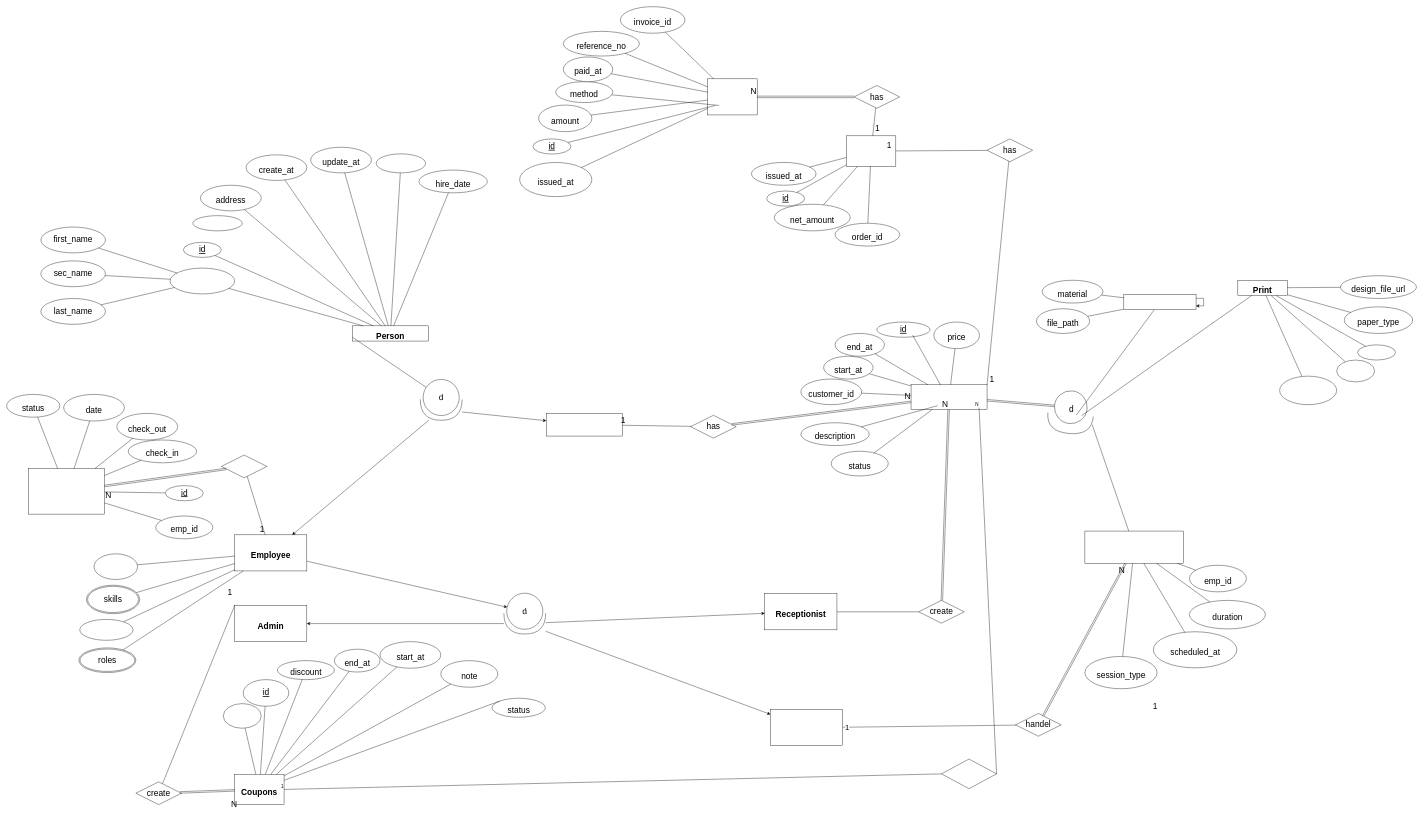
This 1423x817 diagram has some shape labels left out. The shapes that lost their labels are listed below. From the top down, each one's centre as x and y in pixels, then its label:
(x=732, y=96): Payments
(x=401, y=163): sex
(x=871, y=150): Invoice
(x=217, y=223): phone
(x=202, y=281): full_name
(x=1159, y=302): Laser
(x=1355, y=371): qty
(x=1376, y=352): size
(x=949, y=396): Order
(x=1308, y=390): print_type
(x=584, y=424): Customer
(x=244, y=466): logs
(x=66, y=491): Attendance
(x=116, y=566): salary
(x=1134, y=547): Image_Session
(x=106, y=629): title
(x=242, y=715): code
(x=806, y=727): Photographer
(x=969, y=774): Relationship
